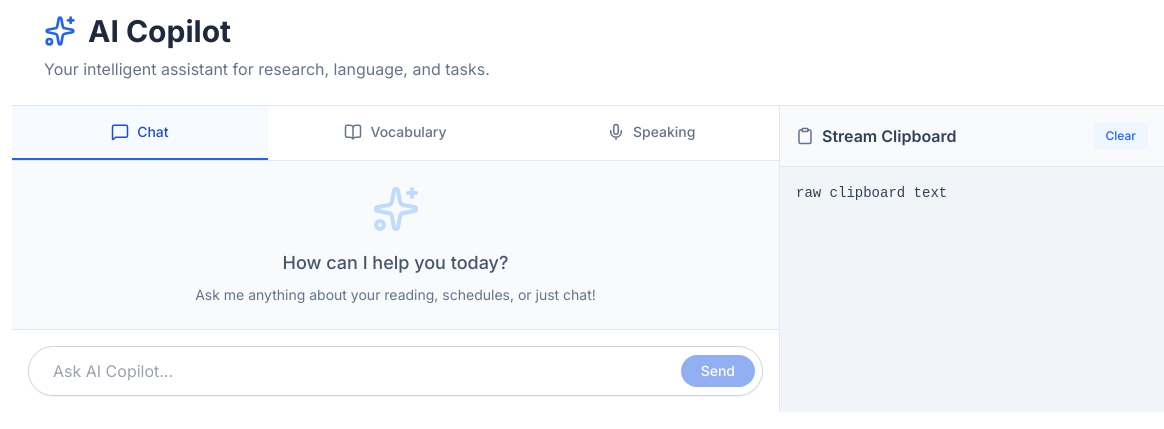
Test case: CopilotPage › clears the clipboard stream when Clear is clicked
Expected: the text "raw clipboard text" is shown, [796,185,947,201]
Click the button "Clear": [1121, 136] box [1094,122,1148,150]
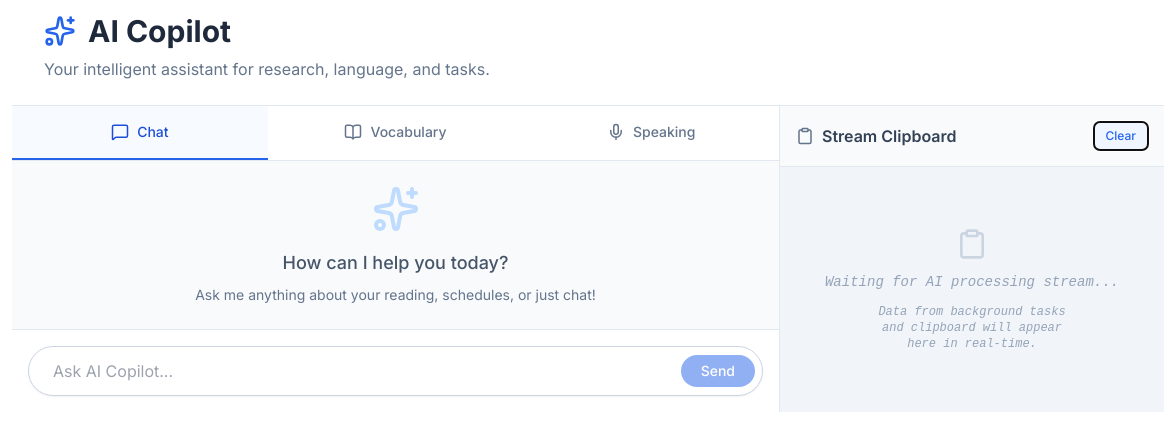
Result: the text "raw clipboard text" is gone
Result: the text "Waiting for AI processing stream..." is shown at [825,272,1119,292]
